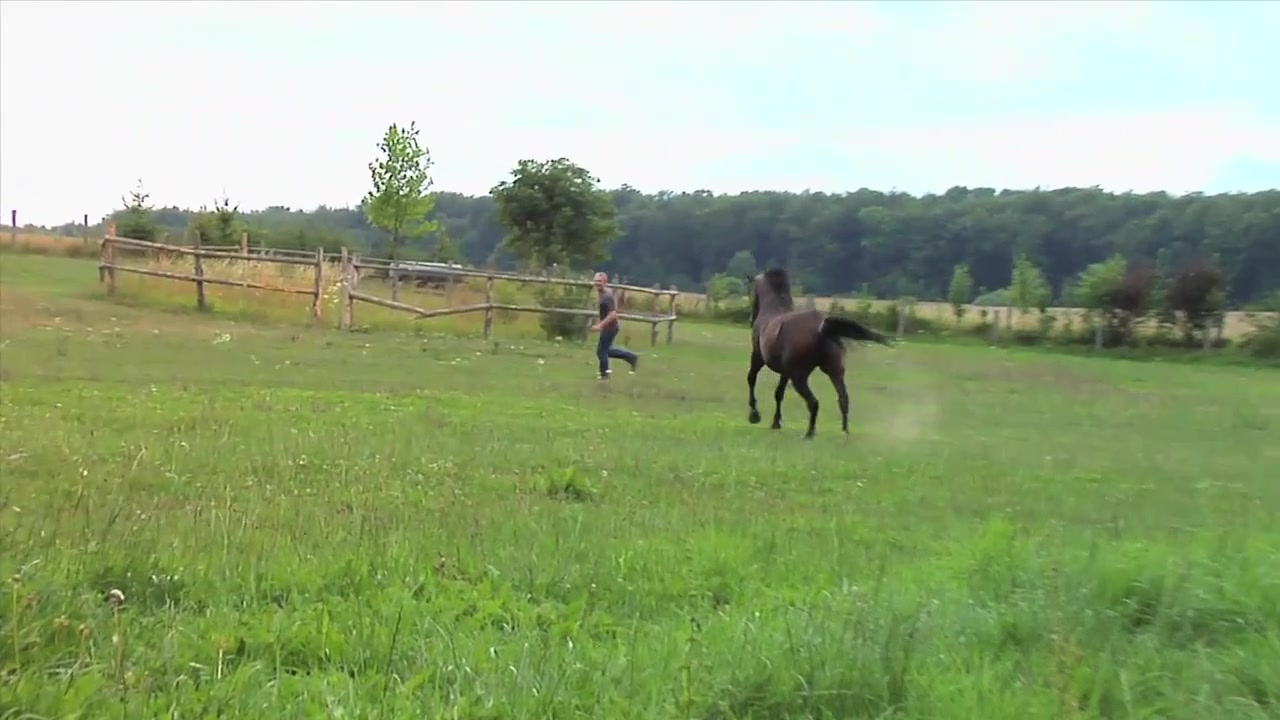horse: (744, 271, 897, 443)
